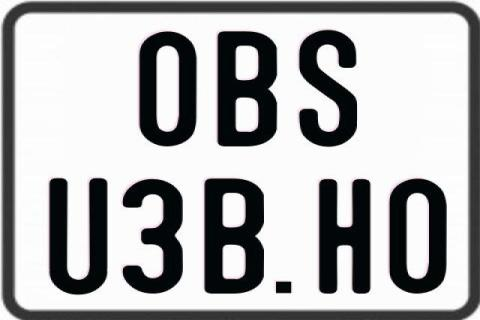0: (120, 178, 181, 296), (386, 177, 448, 293), (138, 31, 197, 148)
B: (205, 177, 270, 297), (218, 29, 277, 145)
H: (320, 178, 376, 296)
S: (299, 27, 359, 145)
U: (46, 178, 110, 294)
